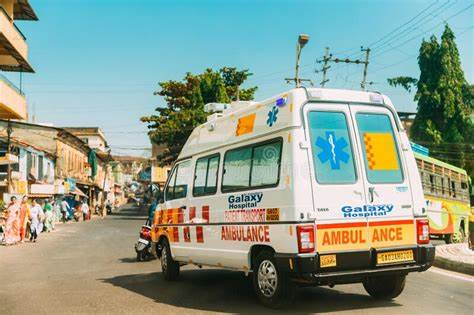ambulance: (142, 97, 447, 297)
